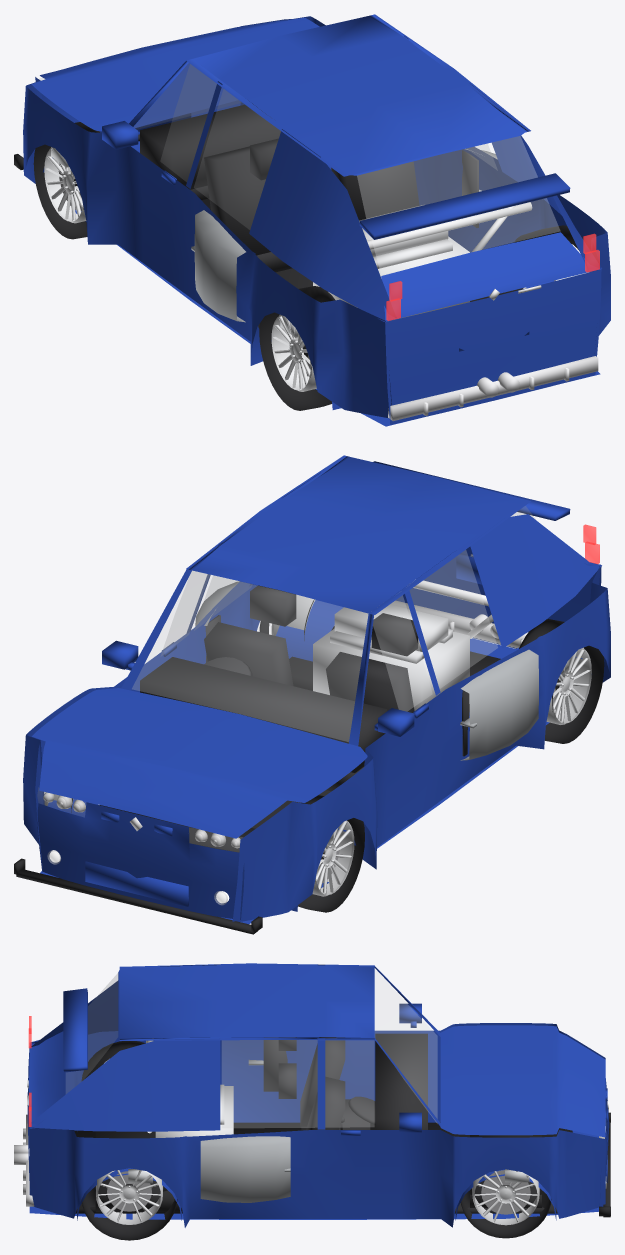
Rendered from vehicle.glb.
The picture shows the model from 3 angles, top to bottom: view 1: azimuth 30°, elevation 25°; view 2: azimuth 150°, elevation 25°; view 3: azimuth 270°, elevation 25°; orthographic projection. The views are drawn at different scales.
Visible parts, largest first — view 1: Cabin, Rear_Clip, Rear_Glass, Seats, Rear_Side, Dashboard, Rear_Spoiler, Side_Ram_Air_Pods, Diffuser, Front_Side, Windshield, Mid_Engine_3L_V6 (+10 smaller); view 2: Cabin, Windshield, Front_Clip, Seats, Dashboard, Rear_Side, Mid_Engine_3L_V6, Side_Ram_Air_Pods, Front_Side, Rear_Clip, Front_Splitter, Tire_Wheel_RR (+11 smaller); view 3: Cabin, Rear_Side, Side_Ram_Air_Pods, Dashboard, Windshield, Front_Side, Seats, Rear_Glass, Rear_Spoiler, Chassis, Tire_Wheel_RL, Tire_Wheel_FL (+14 smaller).
Part boxes in pixels (x1=…): Cabin: x1=23, y1=14, x2=610, y2=426; Rear_Clip: x1=385, y1=269, x2=601, y2=424; Rear_Glass: x1=357, y1=136, x2=559, y2=274; Seats: x1=204, y1=138, x2=419, y2=272; Rear_Side: x1=194, y1=89, x2=496, y2=229; Dashboard: x1=140, y1=103, x2=280, y2=189; Rear_Spoiler: x1=359, y1=173, x2=570, y2=239; Side_Ram_Air_Pods: x1=191, y1=148, x2=497, y2=322; Diffuser: x1=388, y1=356, x2=598, y2=421; Front_Side: x1=160, y1=64, x2=216, y2=181; Windshield: x1=134, y1=63, x2=241, y2=129; Mid_Engine_3L_V6: x1=313, y1=204, x2=469, y2=321; Cabin: x1=23, y1=455, x2=610, y2=924; Windshield: x1=132, y1=571, x2=367, y2=741; Front_Clip: x1=36, y1=802, x2=244, y2=919; Seats: x1=204, y1=585, x2=418, y2=791; Dashboard: x1=140, y1=657, x2=387, y2=772; Rear_Side: x1=194, y1=550, x2=497, y2=688; Mid_Engine_3L_V6: x1=313, y1=604, x2=469, y2=710; Side_Ram_Air_Pods: x1=195, y1=581, x2=538, y2=760; Front_Side: x1=161, y1=571, x2=432, y2=711; Rear_Clip: x1=395, y1=546, x2=601, y2=648; Front_Splitter: x1=14, y1=858, x2=262, y2=934; Tire_Wheel_RR: x1=519, y1=619, x2=604, y2=743; Cabin: x1=29, y1=963, x2=605, y2=1227; Rear_Side: x1=222, y1=1040, x2=317, y2=1127; Side_Ram_Air_Pods: x1=200, y1=1059, x2=290, y2=1202; Dashboard: x1=340, y1=1033, x2=427, y2=1129; Windshield: x1=375, y1=969, x2=437, y2=1123; Front_Side: x1=325, y1=1040, x2=374, y2=1127; Seats: x1=278, y1=1037, x2=370, y2=1130; Rear_Glass: x1=66, y1=973, x2=117, y2=1093; Rear_Spoiler: x1=63, y1=988, x2=87, y2=1072; Chassis: x1=74, y1=1122, x2=572, y2=1213; Tire_Wheel_RL: x1=81, y1=1187, x2=177, y2=1240; Tire_Wheel_FL: x1=460, y1=1189, x2=551, y2=1238.
Bounding box in the file's own units: 1.94 × 1.36 × 3.98.
